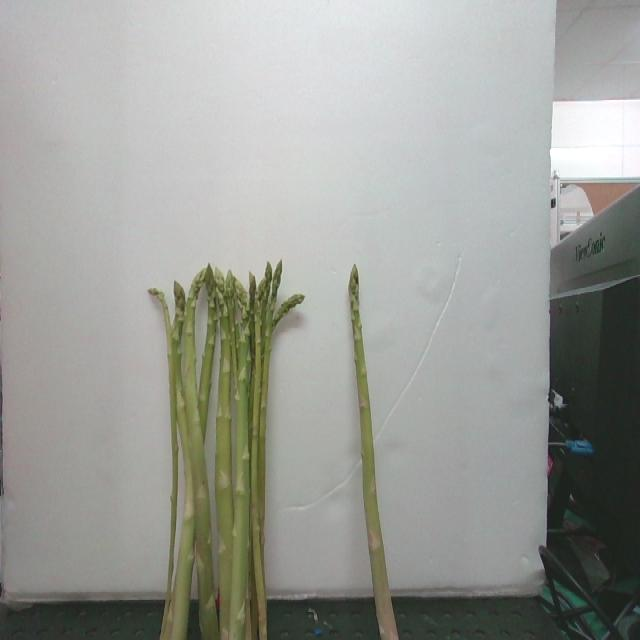aspargus: (346, 266, 397, 640)
